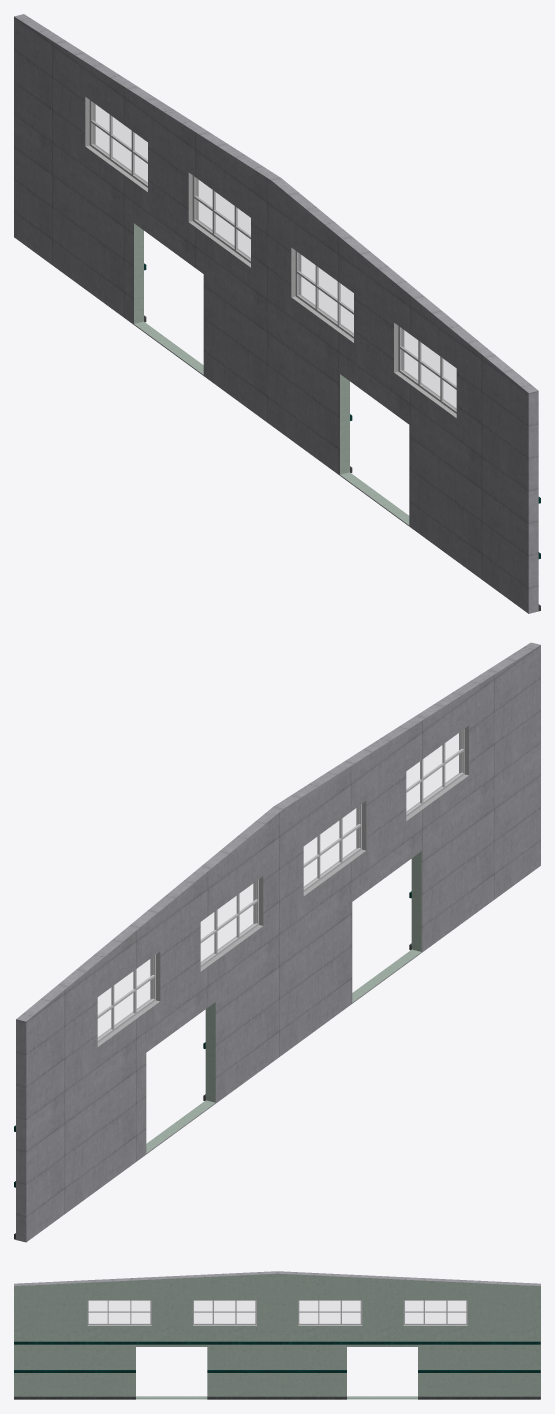
Rendered from WareFront_Walls_WindDoor.glb.
3 renders of one model, top to bottom at view 1: azimuth 30°, elevation 25°; view 2: azimuth 150°, elevation 25°; view 3: azimuth 270°, elevation 25°, orthographic. The views are drawn at different scales.
Visible parts, largest first — view 1: WareFront_Walls_WindDoor, WareFront_Windglasse, WareFront_Wind; view 2: WareFront_Walls_WindDoor, WareFront_Windglasse, WareFront_Wind; view 3: WareFront_Walls_WindDoor (×2), WareFront_Windglasse, WareFront_Metal, WareFront_Wind.
Boxes of the visible parts, x1,y1,x2,y2 form: WareFront_Walls_WindDoor: [14, 14, 538, 613]; WareFront_Windglasse: [92, 102, 456, 410]; WareFront_Wind: [89, 100, 456, 413]; WareFront_Walls_WindDoor: [16, 642, 540, 1242]; WareFront_Windglasse: [98, 730, 462, 1039]; WareFront_Wind: [97, 729, 464, 1042]; WareFront_Walls_WindDoor (×2): [14, 1271, 540, 1399]; WareFront_Windglasse: [89, 1301, 465, 1323]; WareFront_Metal: [14, 1341, 540, 1344]; WareFront_Wind: [87, 1300, 467, 1324].
Size of the model in its own units: 0.5164 by 9.72 by 37.
7 materials, 6 textured.
